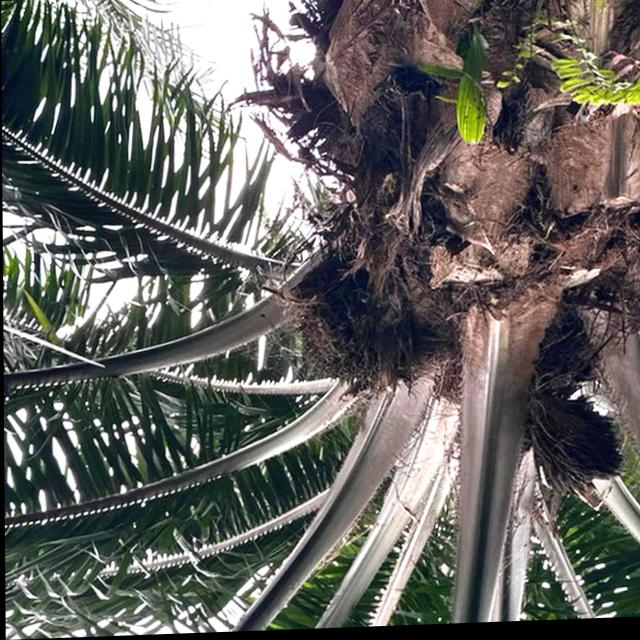unripe: (277, 267, 402, 399)
